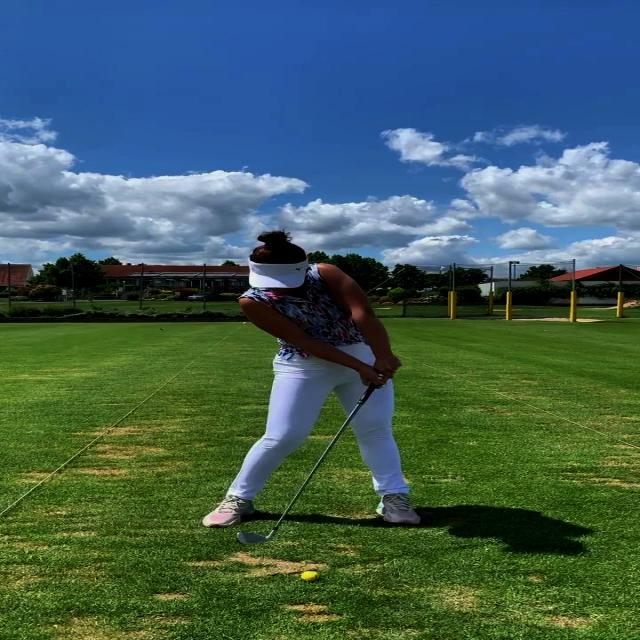ClubHandle: (232, 380, 380, 547)
ClubHead: (234, 532, 272, 544)
GolfBall: (301, 571, 320, 582)
